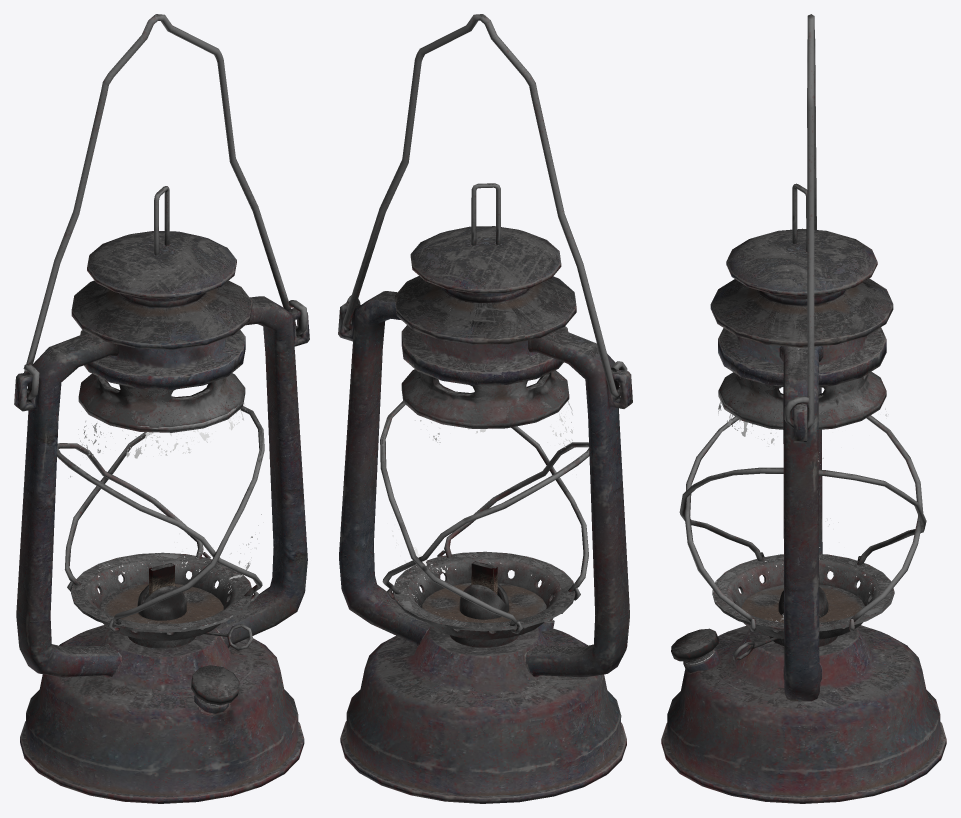
File: lampgas.fbx
The picture shows the model from 3 angles, left to right: view 1: azimuth 30°, elevation 25°; view 2: azimuth 150°, elevation 25°; view 3: azimuth 270°, elevation 25°; orthographic projection.
Parts seen in each view (by area): view 1: 4, 1, 6, 2, 3, 5; view 2: 4, 1, 6, 2, 3; view 3: 4, 1, 6, 2, 3.
Boxes of the visible parts, x1,y1,x2,y2 form: 4: [20, 231, 304, 803]; 1: [14, 296, 309, 676]; 6: [71, 552, 252, 648]; 2: [23, 14, 307, 650]; 3: [78, 373, 245, 713]; 5: [70, 402, 261, 622]; 4: [340, 226, 626, 803]; 1: [338, 291, 632, 677]; 6: [392, 551, 575, 647]; 2: [343, 14, 627, 633]; 3: [401, 369, 569, 631]; 4: [661, 228, 946, 803]; 1: [779, 346, 823, 701]; 6: [712, 554, 894, 646]; 2: [679, 14, 926, 660]; 3: [671, 371, 886, 672].
Size of the model in its own units: 189 by 457 by 162.
